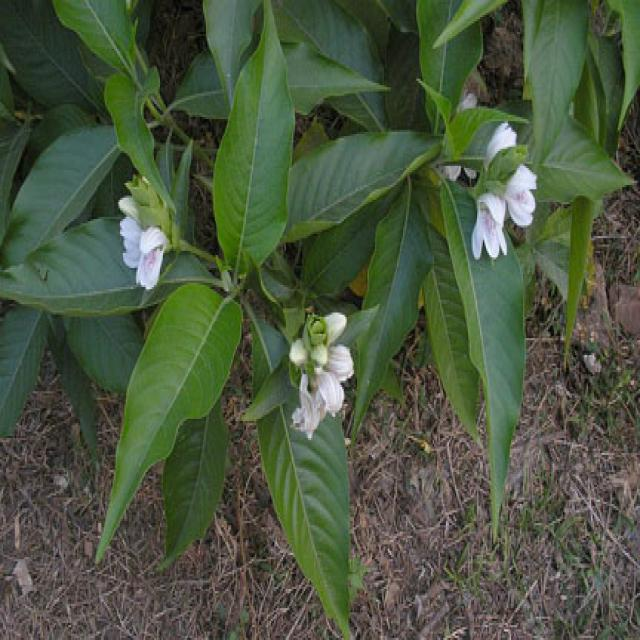Malabar Nut: (412, 74, 608, 356), (248, 286, 416, 481), (84, 168, 210, 293)
